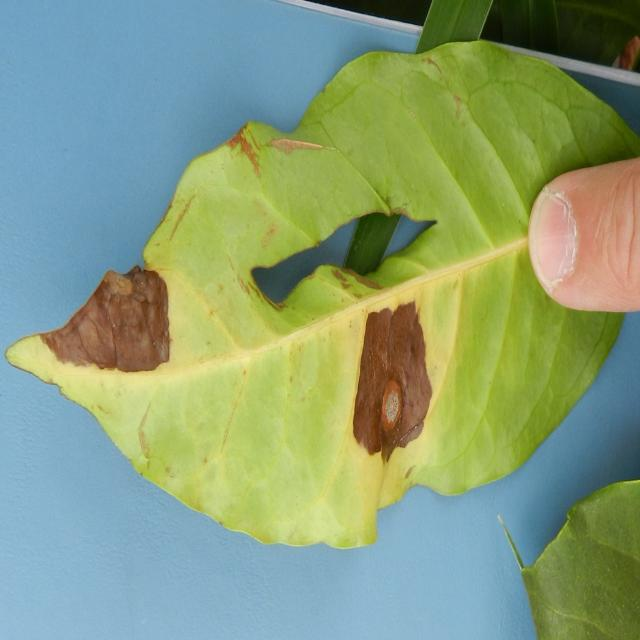Enfermedad-Mancha-de-hierro: (5, 41, 640, 552)
